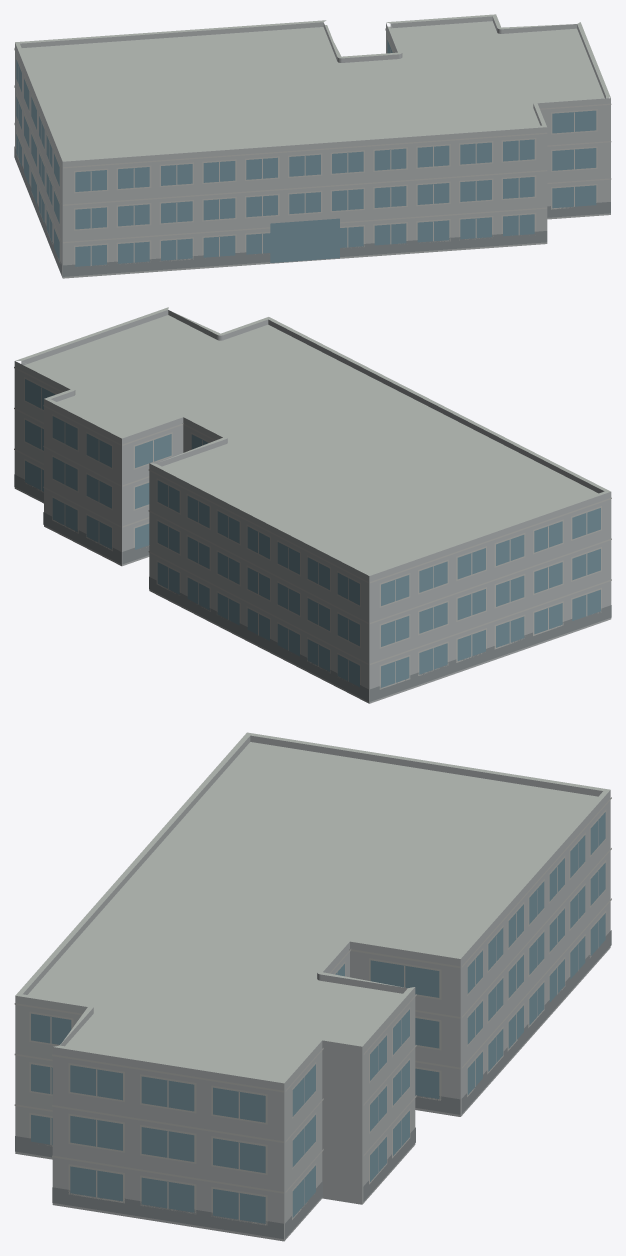
File: public-1f93f22d-8bdd-4832-b3da-a06c9658e0d1.glb
The picture shows the model from 3 angles, top to bottom: view 1: azimuth 30°, elevation 25°; view 2: azimuth 150°, elevation 25°; view 3: azimuth 270°, elevation 25°; orthographic projection. The views are drawn at different scales.
Visible parts, largest first — view 1: public-1f93f22d-8bdd-4832-b3da-a06c9658e0d1; view 2: public-1f93f22d-8bdd-4832-b3da-a06c9658e0d1; view 3: public-1f93f22d-8bdd-4832-b3da-a06c9658e0d1.
Part boxes in pixels (x1=…): public-1f93f22d-8bdd-4832-b3da-a06c9658e0d1: x1=14, y1=14, x2=611, y2=278; public-1f93f22d-8bdd-4832-b3da-a06c9658e0d1: x1=14, y1=307, x2=611, y2=703; public-1f93f22d-8bdd-4832-b3da-a06c9658e0d1: x1=14, y1=732, x2=611, y2=1241.
Size of the model in its own units: 43.69 by 9.15 by 31.37.
